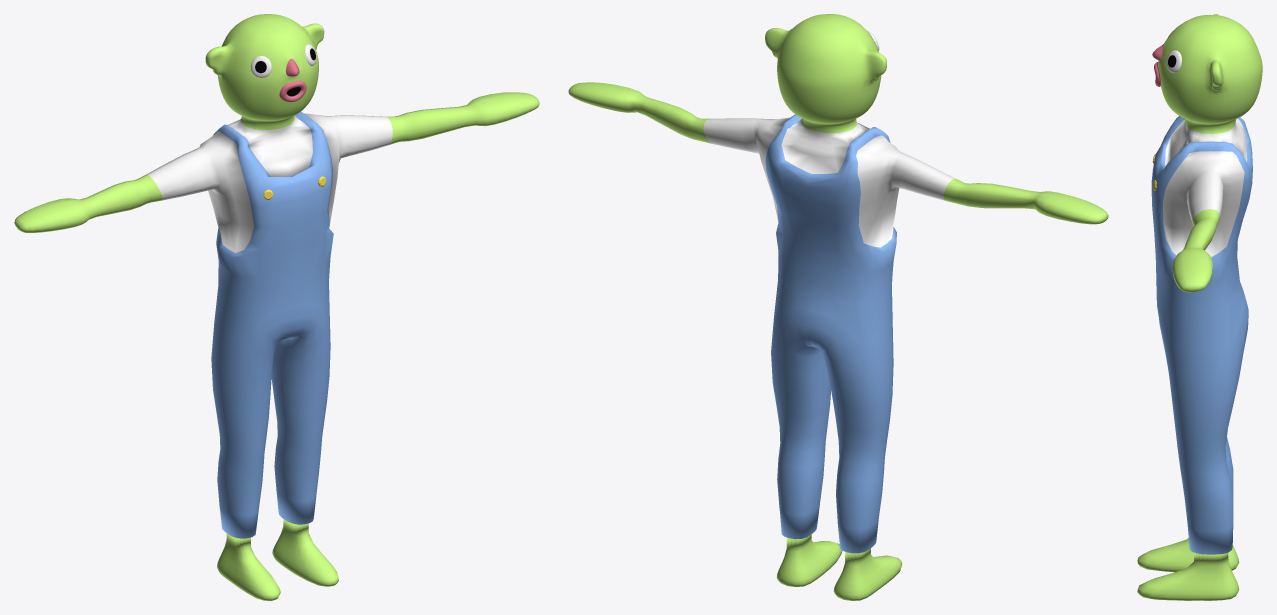
The model's file is SizeReferenceCharacter.fbx.
The picture shows the model from 3 angles, left to right: view 1: azimuth 30°, elevation 25°; view 2: azimuth 150°, elevation 25°; view 3: azimuth 270°, elevation 25°; orthographic projection. The views are drawn at different scales.
Parts seen in each view (by area): view 1: Mouth; view 2: Mouth; view 3: Mouth.
Boxes of the visible parts, x1,y1,x2,y2 form: Mouth: [14, 14, 539, 600]; Mouth: [568, 14, 1108, 600]; Mouth: [1137, 14, 1262, 600].
Bounding box in the file's own units: 168 × 171 × 34.53.
